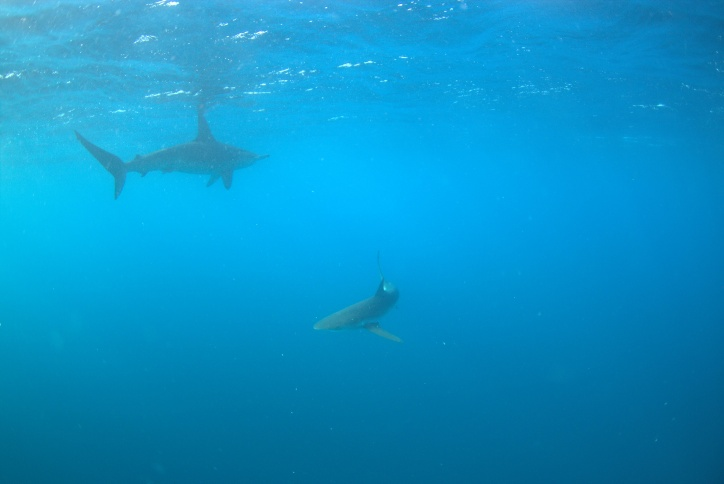Hammer: (57, 104, 277, 222)
